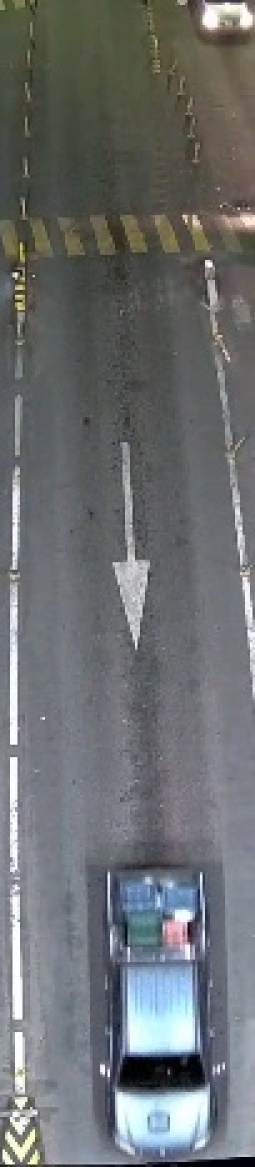car: (85, 851, 240, 1157)
